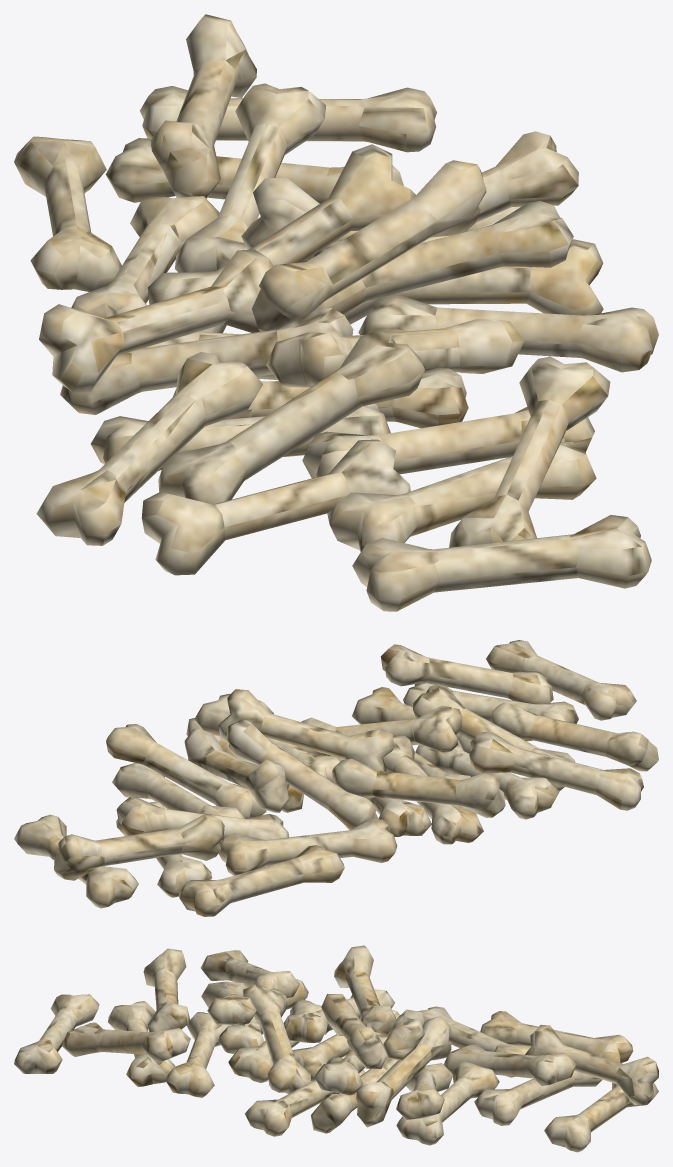
File: bone_3_1.fbx
3 views of the same model, one above another, from view 1: azimuth 30°, elevation 25°; view 2: azimuth 150°, elevation 25°; view 3: azimuth 270°, elevation 25° (orthographic). The views are drawn at different scales.
Parts seen in each view (by area): view 1: Sphere012_Material #219_0.006; view 2: Sphere012_Material #219_0.006; view 3: Sphere012_Material #219_0.006.
Boxes of the visible parts, x1,y1,x2,y2 form: Sphere012_Material #219_0.006: (14,14,658,611); Sphere012_Material #219_0.006: (14,640,658,916); Sphere012_Material #219_0.006: (14,945,658,1152).
Size of the model in its own units: 3278 by 681 by 4815.
